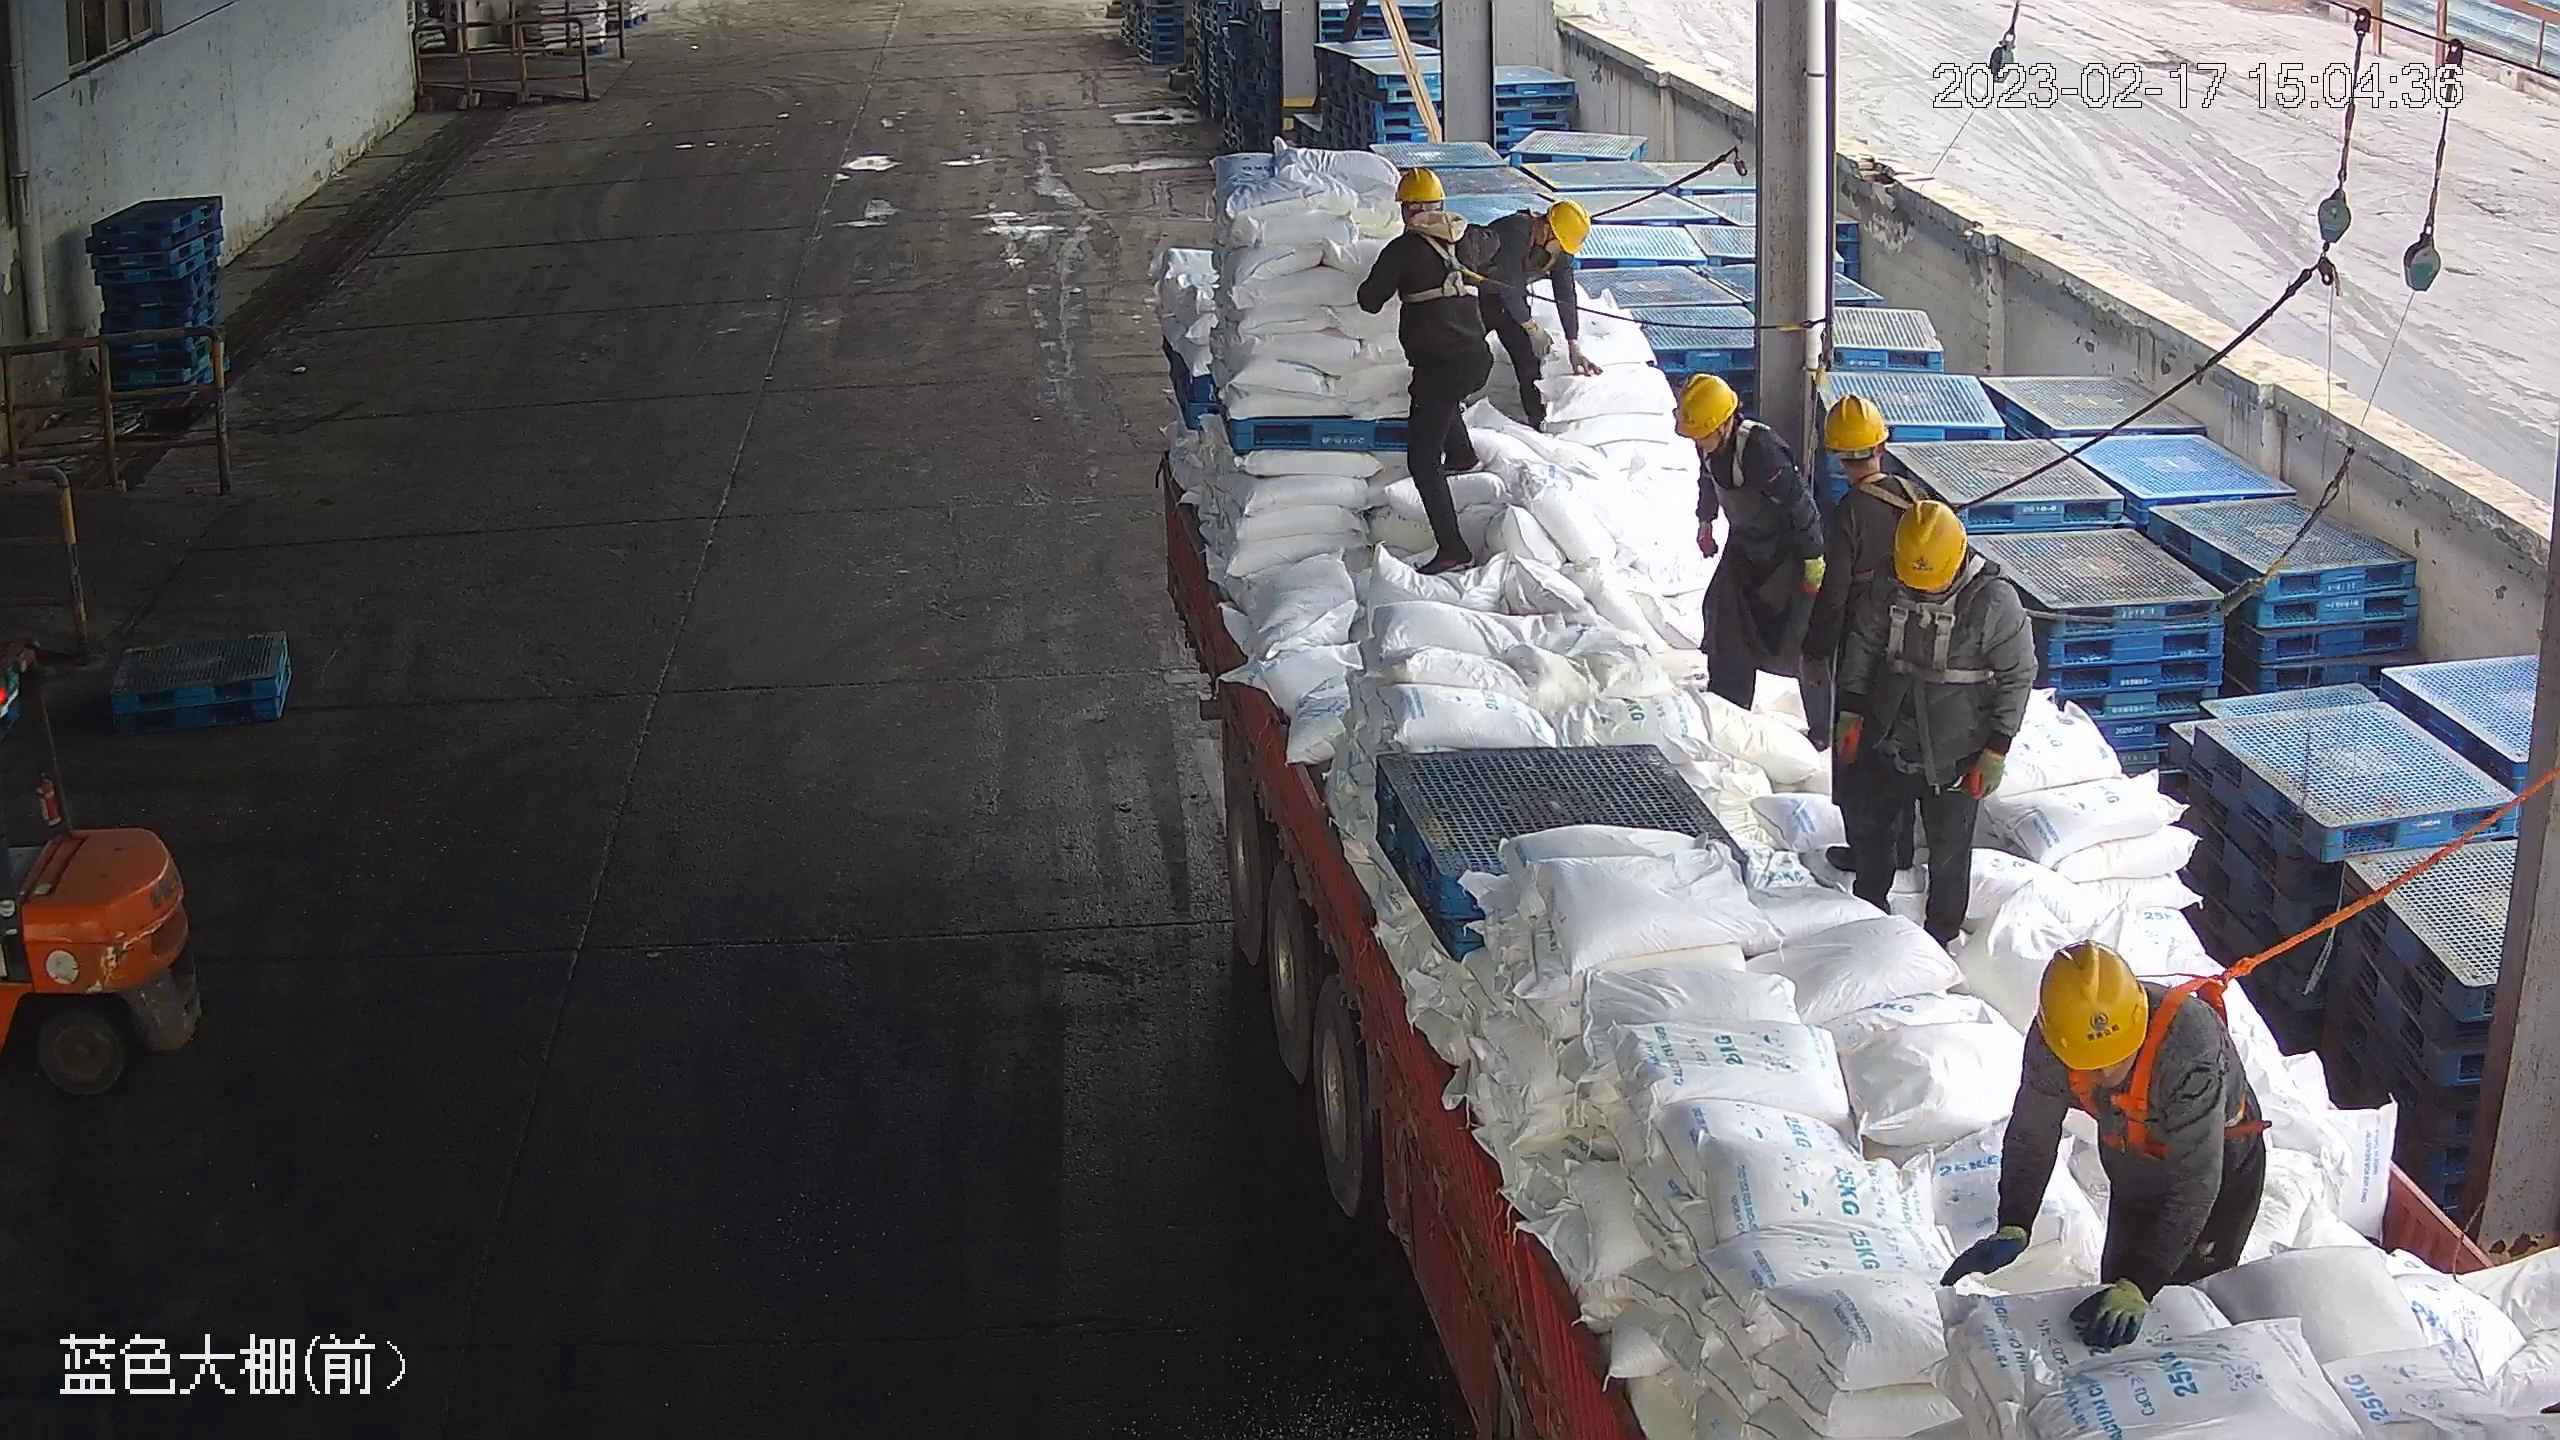belt: (2073, 967, 2248, 1153), (1874, 553, 2012, 680), (1399, 216, 1492, 304), (1706, 417, 1785, 488), (1851, 464, 1938, 521), (1516, 201, 1559, 278)
head: (2009, 933, 2256, 1120), (1865, 492, 2025, 634), (1673, 373, 1798, 487), (1810, 393, 1915, 519), (1375, 167, 1484, 271), (1488, 193, 1590, 279)
helmet: (2035, 939, 2147, 1070), (1888, 493, 1968, 591), (1815, 391, 1890, 453), (1675, 371, 1737, 438), (1546, 196, 1590, 255), (1391, 166, 1444, 203)
people: (1950, 938, 2276, 1352), (1813, 488, 2033, 955), (1355, 164, 1514, 576), (1675, 371, 1824, 718), (1464, 183, 1593, 431)
truck: (1154, 324, 2544, 1438)
